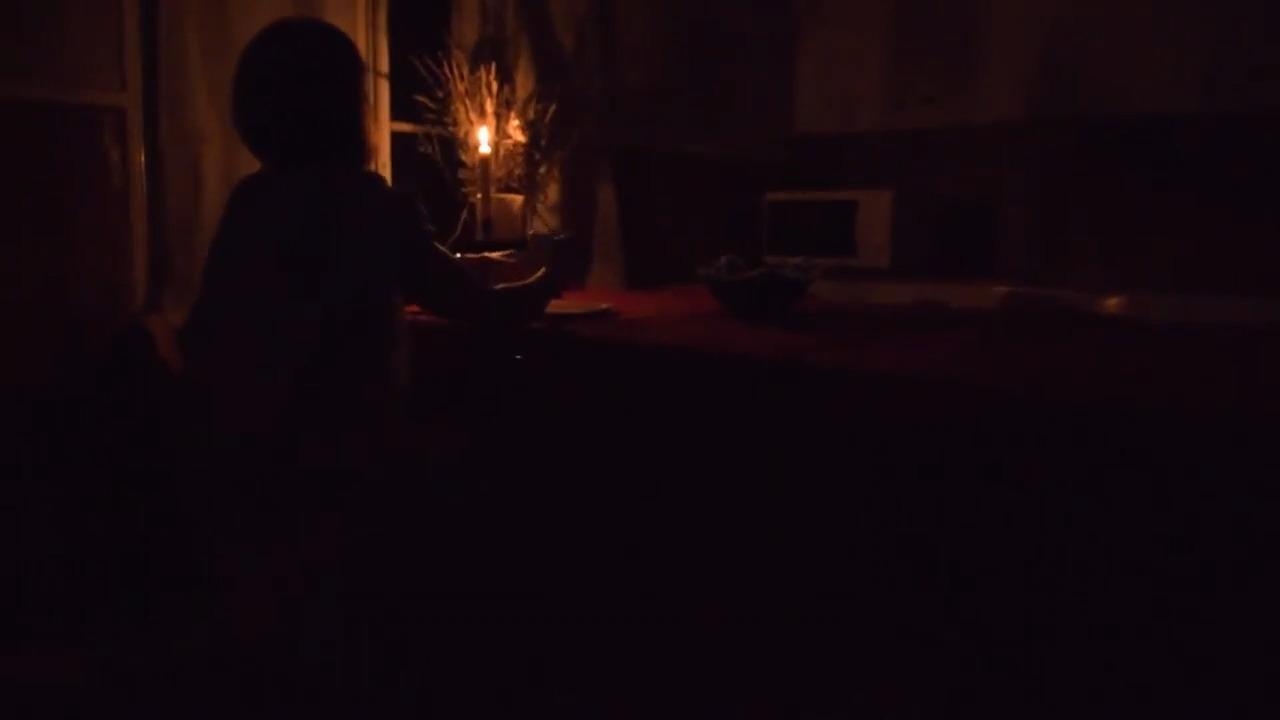fire: (471, 119, 497, 153)
